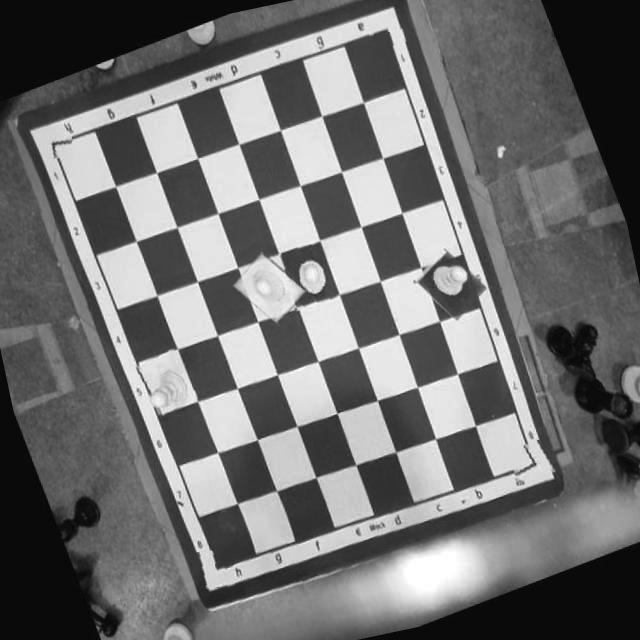chess-table-corners: (506, 437, 556, 484), (190, 544, 237, 592), (365, 13, 408, 50), (36, 125, 74, 162)
